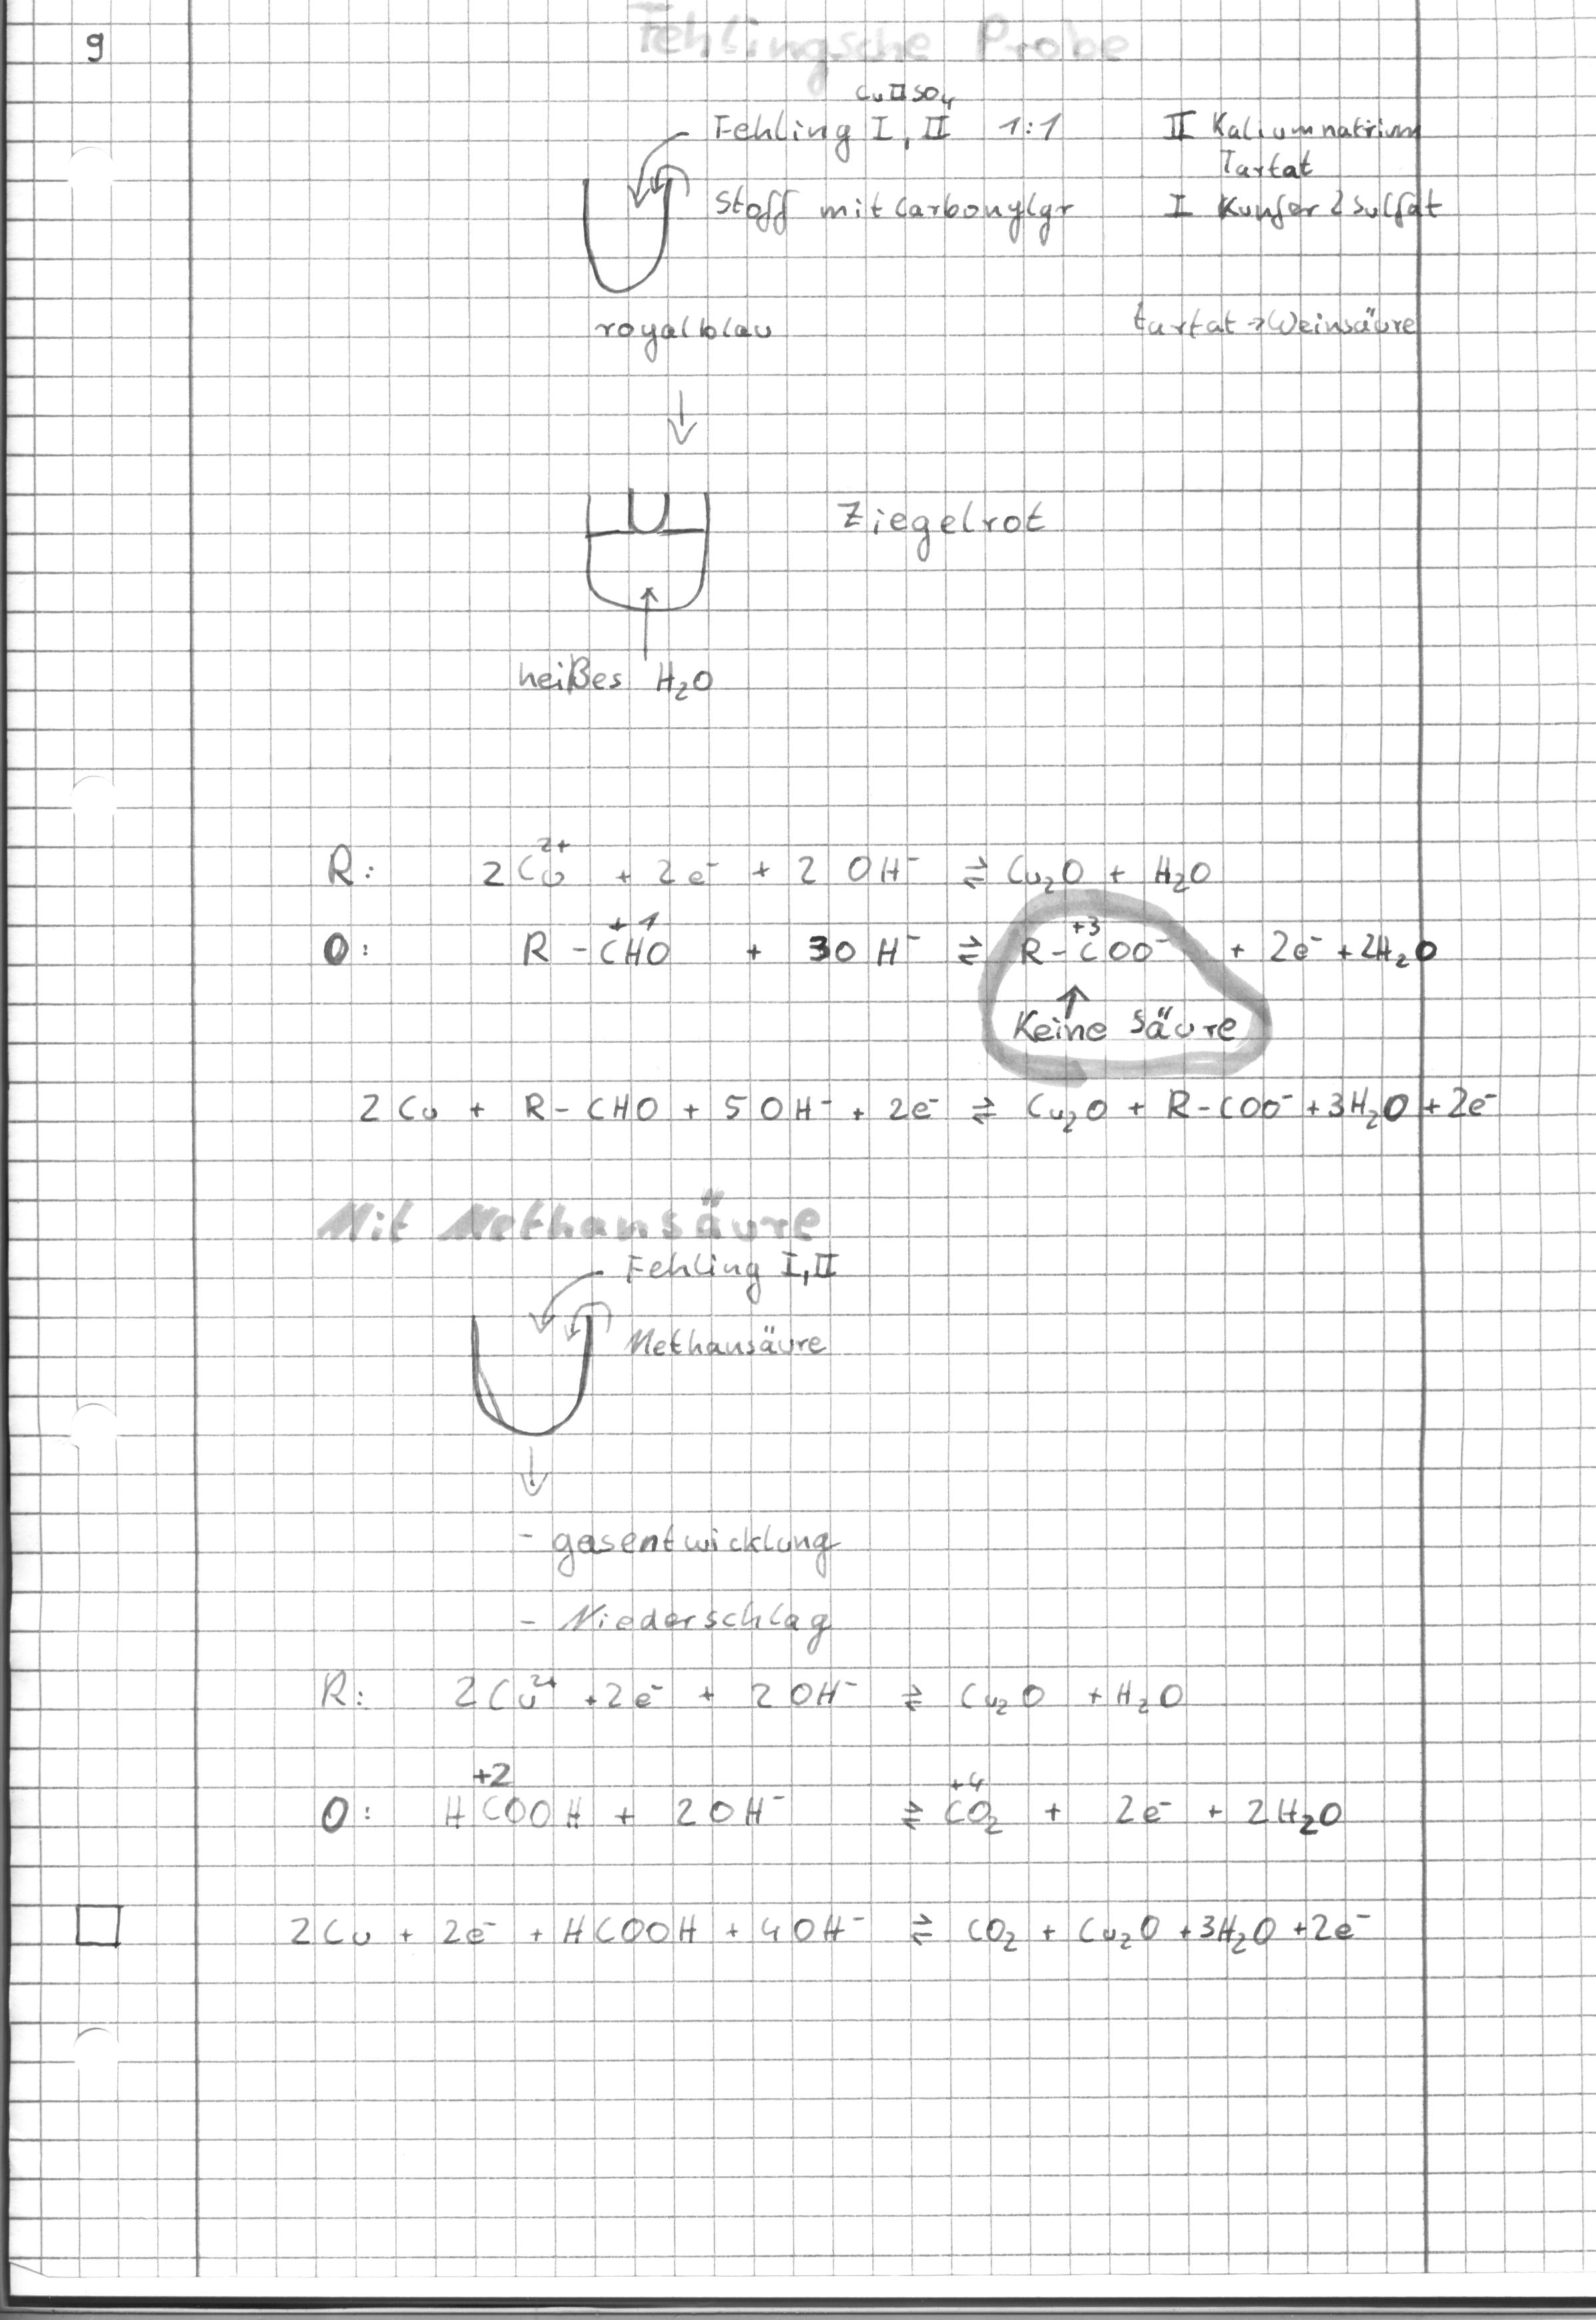word: (276, 1886, 1385, 1979), (347, 1070, 1517, 1149), (507, 902, 1442, 975), (704, 77, 1081, 255), (297, 1657, 1199, 1730), (469, 814, 1223, 902), (298, 1746, 798, 1866), (508, 1515, 843, 1660), (887, 1761, 1350, 1851), (1151, 98, 1450, 235), (617, 1242, 850, 1364), (1122, 285, 1428, 358), (828, 486, 1058, 573), (998, 990, 1259, 1057), (504, 641, 728, 719), (584, 292, 785, 377), (303, 828, 394, 979)
